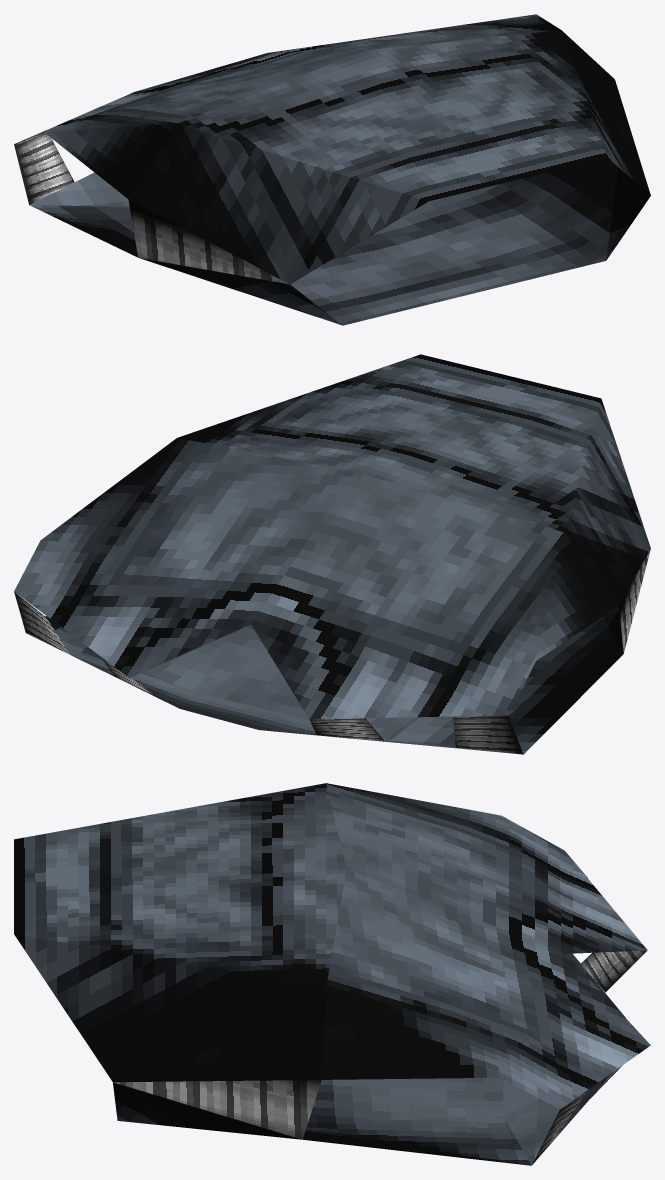
The model's file is primary_02.glb.
The picture shows the model from 3 angles, top to bottom: view 1: azimuth 30°, elevation 25°; view 2: azimuth 150°, elevation 25°; view 3: azimuth 270°, elevation 25°; orthographic projection. The views are drawn at different scales.
Visible parts, largest first — view 1: Object; view 2: Object; view 3: Object.
Boxes of the visible parts, left/top/right/bottom form: Object: left=14, top=14, right=650, bottom=325; Object: left=14, top=354, right=650, bottom=754; Object: left=14, top=783, right=650, bottom=1165.
Bounding box in the file's own units: 0.6685 × 0.2409 × 0.6889.
7 materials, 7 textured.
